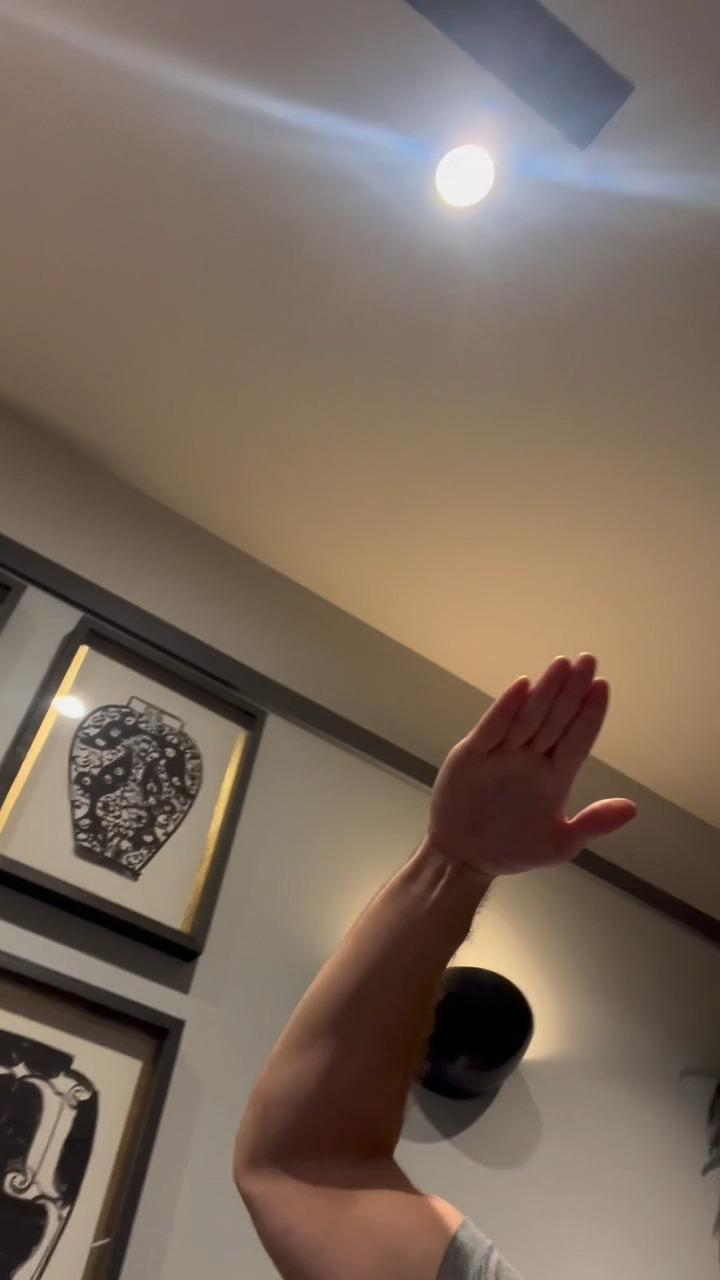Paper: (424, 650, 643, 885)
